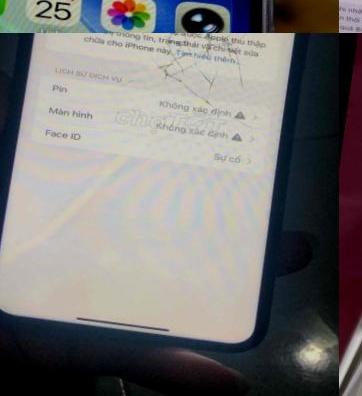physical_damage: (114, 33, 324, 163)
